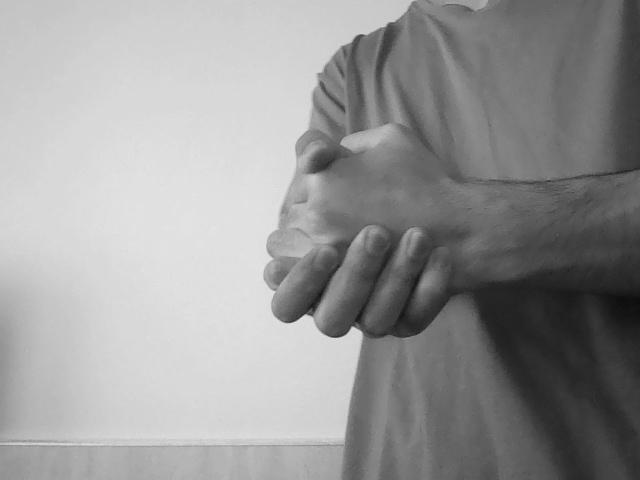friend: (256, 125, 477, 347)
